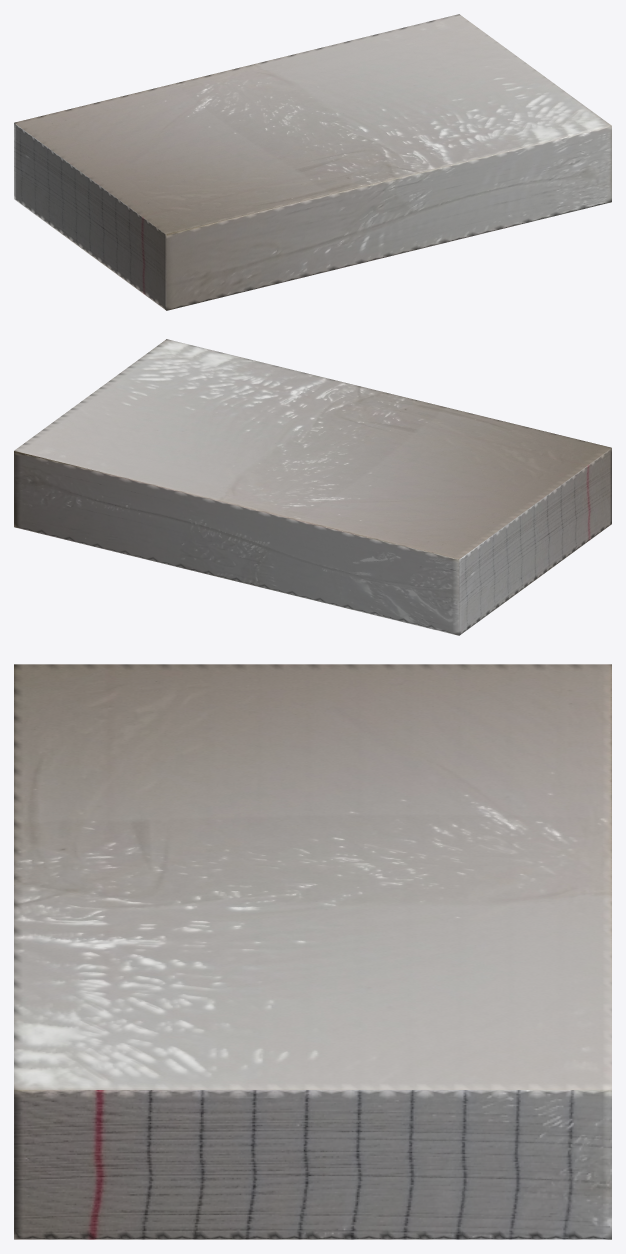
The model's file is mead_index_cards.obj.
3 renders of one model, top to bottom at view 1: azimuth 30°, elevation 25°; view 2: azimuth 150°, elevation 25°; view 3: azimuth 270°, elevation 25°, orthographic. The views are drawn at different scales.
Bounding box in the file's own units: 0.128 × 0.021 × 0.076.
Materials: 1 (1 with a texture image).
